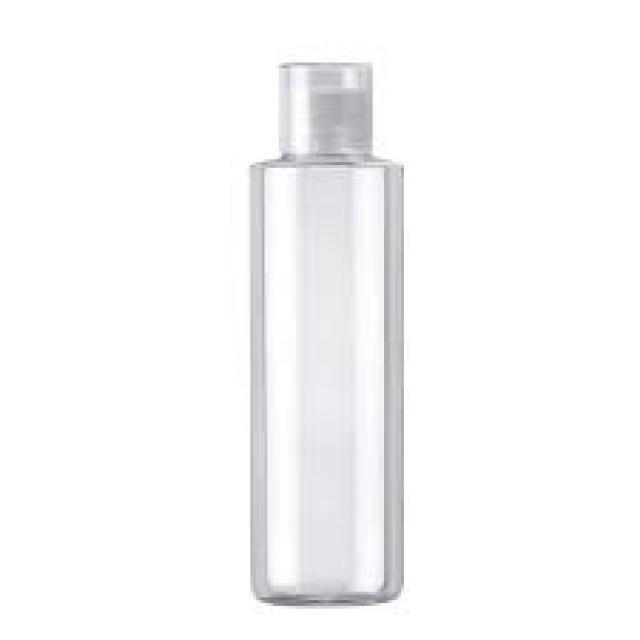Plastic: (253, 59, 406, 606)
